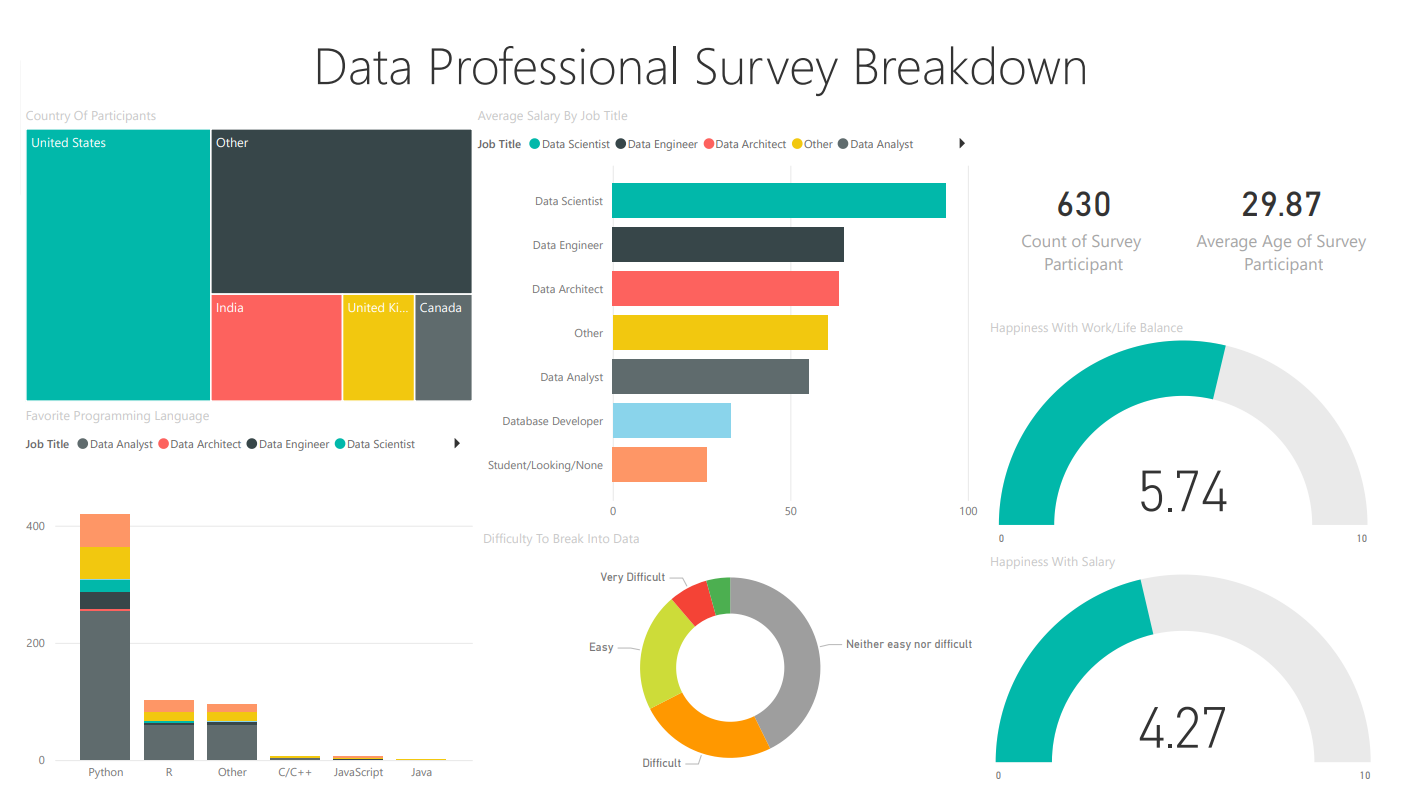

This screenshot's page, from the dashboard's own definition file:
{"tool":"powerbi","page":{"name":"Page 1","canvas":[1280,720],"ordinal":0},"visuals":[{"type":"textbox","box":[0,0,1280,78],"z":0},{"type":"card","fields":{"Values":["CountNonNull(Data Professional Survey.Unique ID)"]},"box":[906.7,78.3,186.7,198.3],"z":1000},{"type":"card","fields":{"Values":["Avg(Data Professional Survey.Q10 - Current Age)"]},"box":[1093.3,78.3,186,198.3],"z":2000},{"type":"barChart","title":"Average Salary By Job Title","fields":{"Category":["Data Professional Survey.Q1 - Which Title Best Fits your Current Role?.1"],"Y":["Avg(Data Professional Survey.Average Salary)"],"Series":["Data Professional Survey.Q1 - Which Title Best Fits your Current Role?.1"]},"box":[425,78.3,480,396.7],"z":3000},{"type":"columnChart","title":"Favorite Programming Language","fields":{"Category":["Data Professional Survey.Q5 - Favorite Programming Language.1"],"Y":["CountNonNull(Data Professional Survey.Unique ID)"],"Series":["Data Professional Survey.Q1 - Which Title Best Fits your Current Role?.1"]},"box":[0,360,430,360],"z":4000},{"type":"treemap","title":"Country Of Participants","fields":{"Group":["Data Professional Survey.Q11 - Which Country do you live in?.1"],"Values":["CountNonNull(Data Professional Survey.Q11 - Which Country do you live in?.1)"]},"box":[0,78.3,430,281.7],"z":5000},{"type":"gauge","title":"Happiness With Salary","fields":{"Y":["Avg(Data Professional Survey.Q6 - How Happy are you in your Current Position with the following? (Salary))"],"MinValue":["Min(Data Professional Survey.Q6 - How Happy are you in your Current Position with the following? (Salary))"],"MaxValue":["Max(Data Professional Survey.Q6 - How Happy are you in your Current Position with the following? (Salary))1"]},"box":[906.7,496.7,373.3,223.3],"z":6000},{"type":"gauge","title":"Happiness With Work/Life Balance","fields":{"Y":["Avg(Data Professional Survey.Q6 - How Happy are you in your Current Position with the following? (Work/Life Balance))"],"MinValue":["Min(Data Professional Survey.Q6 - How Happy are you in your Current Position with the following? (Work/Life Balance))1"],"MaxValue":["Max(Data Professional Survey.Q6 - How Happy are you in your Current Position with the following? (Work/Life Balance))2"]},"box":[906.7,276.7,373.3,220],"z":7000},{"type":"donutChart","title":"Difficulty To Break Into Data","fields":{"Category":["Data Professional Survey.Q7 - How difficult was it for you to break into Data?"],"Y":["CountNonNull(Data Professional Survey.Q7 - How difficult was it for you to break into Data?)"]},"box":[430,475,475,245],"z":8000}]}

Visuals, with their boxes in screenshot pixels (x1, y1, x2, y2), scaled from the page's 1280x720 canvas onto the 1401x808 screenshot:
textbox: <region>0, 0, 1400, 88</region>
card - CountNonNull(Data Professional Survey.Unique ID): <region>992, 88, 1197, 310</region>
card - Avg(Data Professional Survey.Q10 - Current Age): <region>1197, 88, 1400, 310</region>
"Average Salary By Job Title" barChart: <region>465, 88, 991, 533</region>
"Favorite Programming Language" columnChart: <region>0, 404, 471, 807</region>
"Country Of Participants" treemap: <region>0, 88, 471, 404</region>
"Happiness With Salary" gauge: <region>992, 557, 1400, 807</region>
"Happiness With Work/Life Balance" gauge: <region>992, 311, 1400, 557</region>
"Difficulty To Break Into Data" donutChart: <region>471, 533, 991, 807</region>
